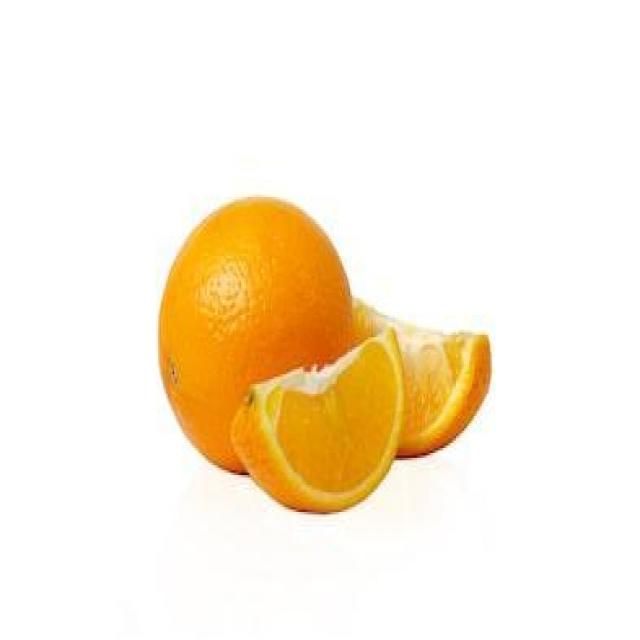orange: (151, 193, 349, 363), (232, 321, 398, 516), (403, 312, 496, 469)
